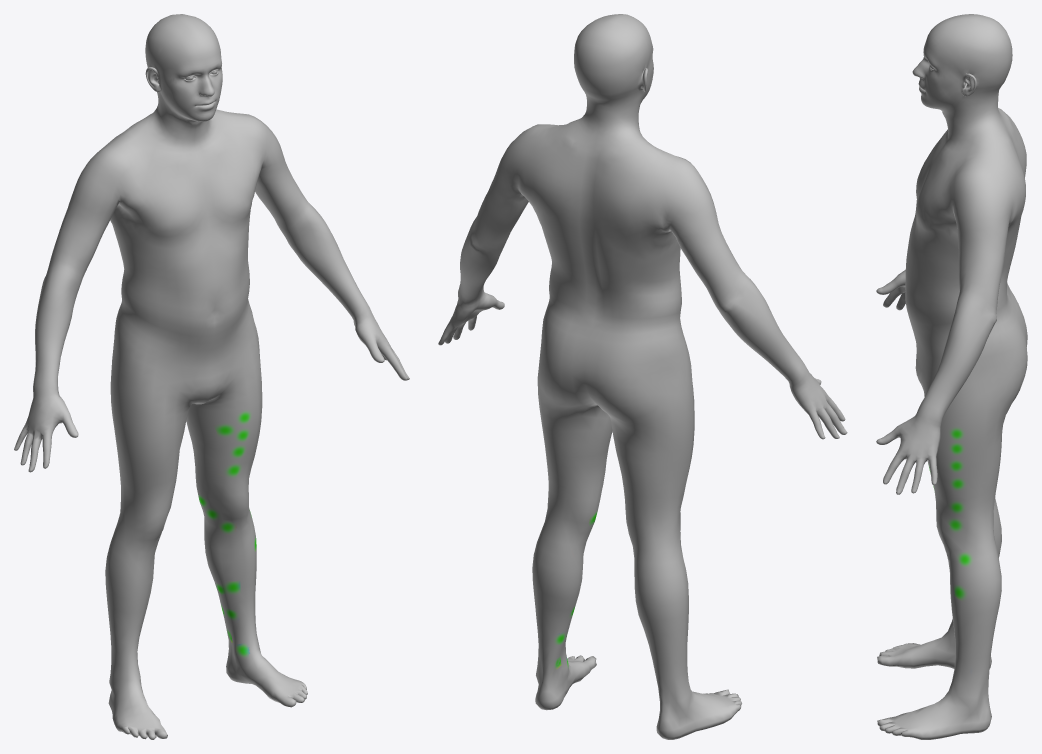
Rendered from 1135018-layingdown-green.gltf.
3 renders of one model, left to right at view 1: azimuth 30°, elevation 25°; view 2: azimuth 150°, elevation 25°; view 3: azimuth 270°, elevation 25°, orthographic. The views are drawn at different scales.
Parts seen in each view (by area): view 1: Male 68in 160lbs-A-pose; view 2: Male 68in 160lbs-A-pose; view 3: Male 68in 160lbs-A-pose.
Part boxes in pixels (x1,y1,x2,y2): Male 68in 160lbs-A-pose: (14,14,409,739); Male 68in 160lbs-A-pose: (438,14,847,739); Male 68in 160lbs-A-pose: (876,14,1027,739).
Bounding box in the file's own units: 3.05 × 5.17 × 1.04.
1 material, 1 textured.
